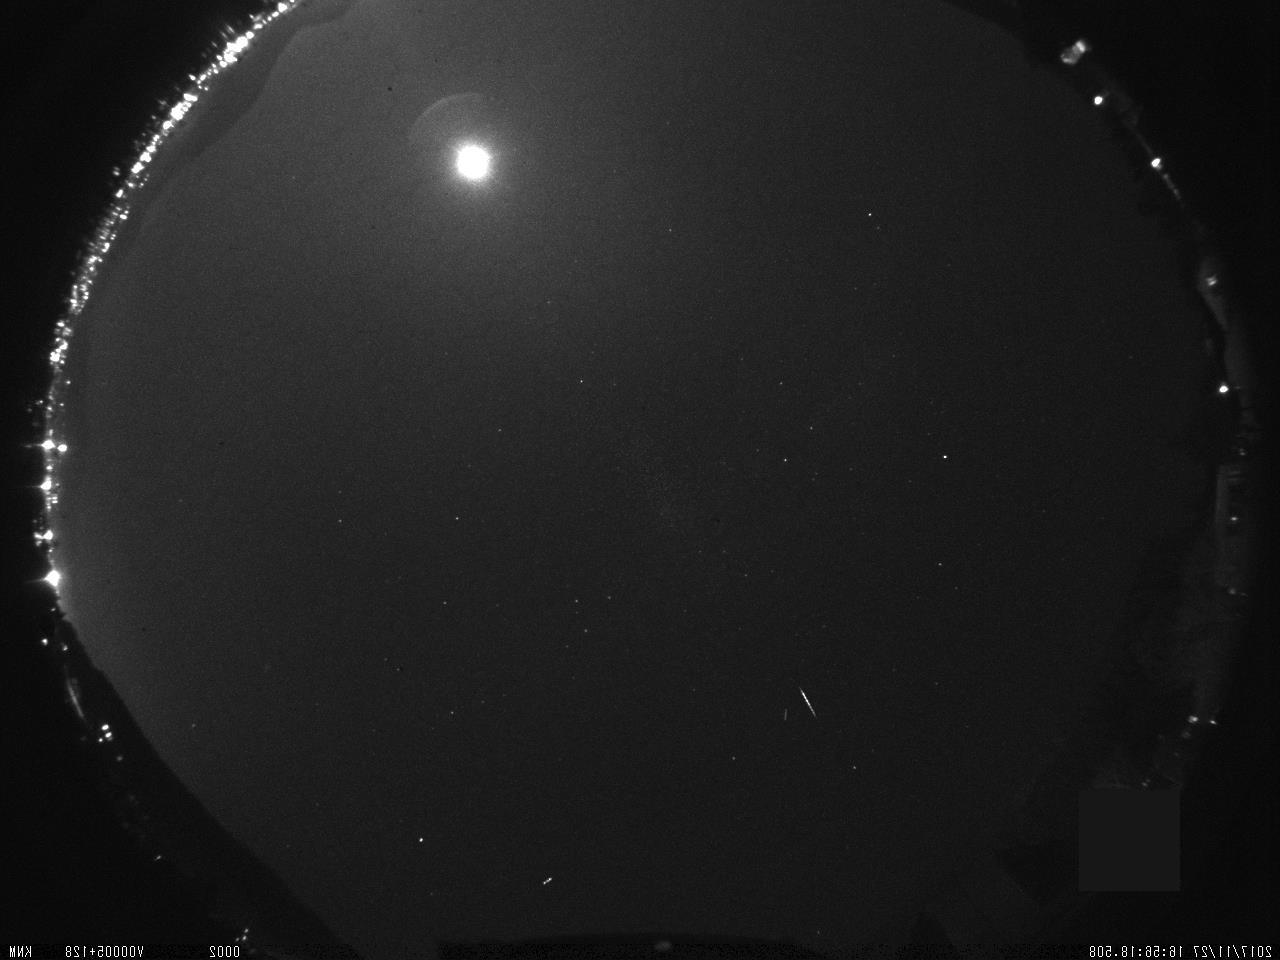meteor: (778, 680, 837, 730)
